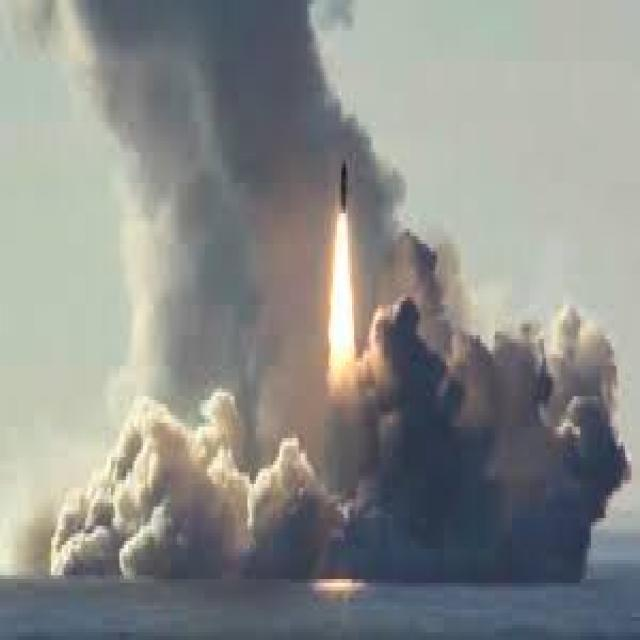missile: (337, 156, 350, 222)
